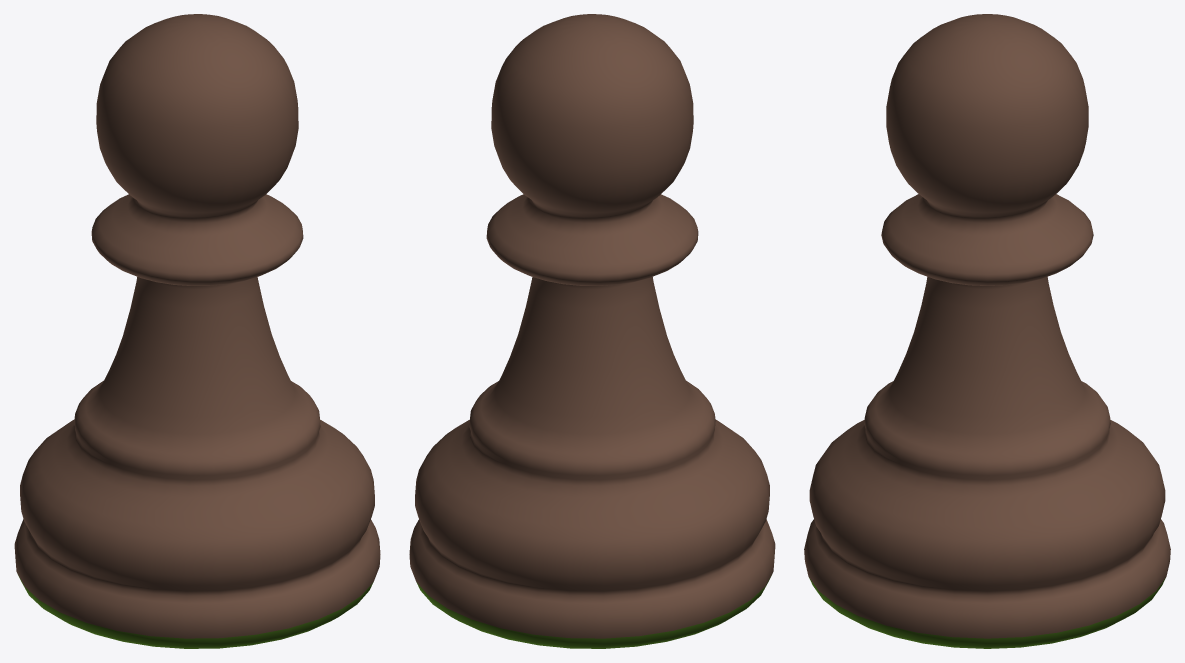
File: blackpawn.glb
3 views of the same model, side by side, from view 1: azimuth 30°, elevation 25°; view 2: azimuth 150°, elevation 25°; view 3: azimuth 270°, elevation 25° (orthographic).
Visible parts, largest first — view 1: blackpawn; view 2: blackpawn; view 3: blackpawn.
Part boxes in pixels (x1,y1,x2,y2): blackpawn: [14, 14, 380, 648]; blackpawn: [409, 14, 775, 648]; blackpawn: [804, 14, 1170, 648].
Size of the model in its own units: 0.5151 by 0.8827 by 0.5151.
